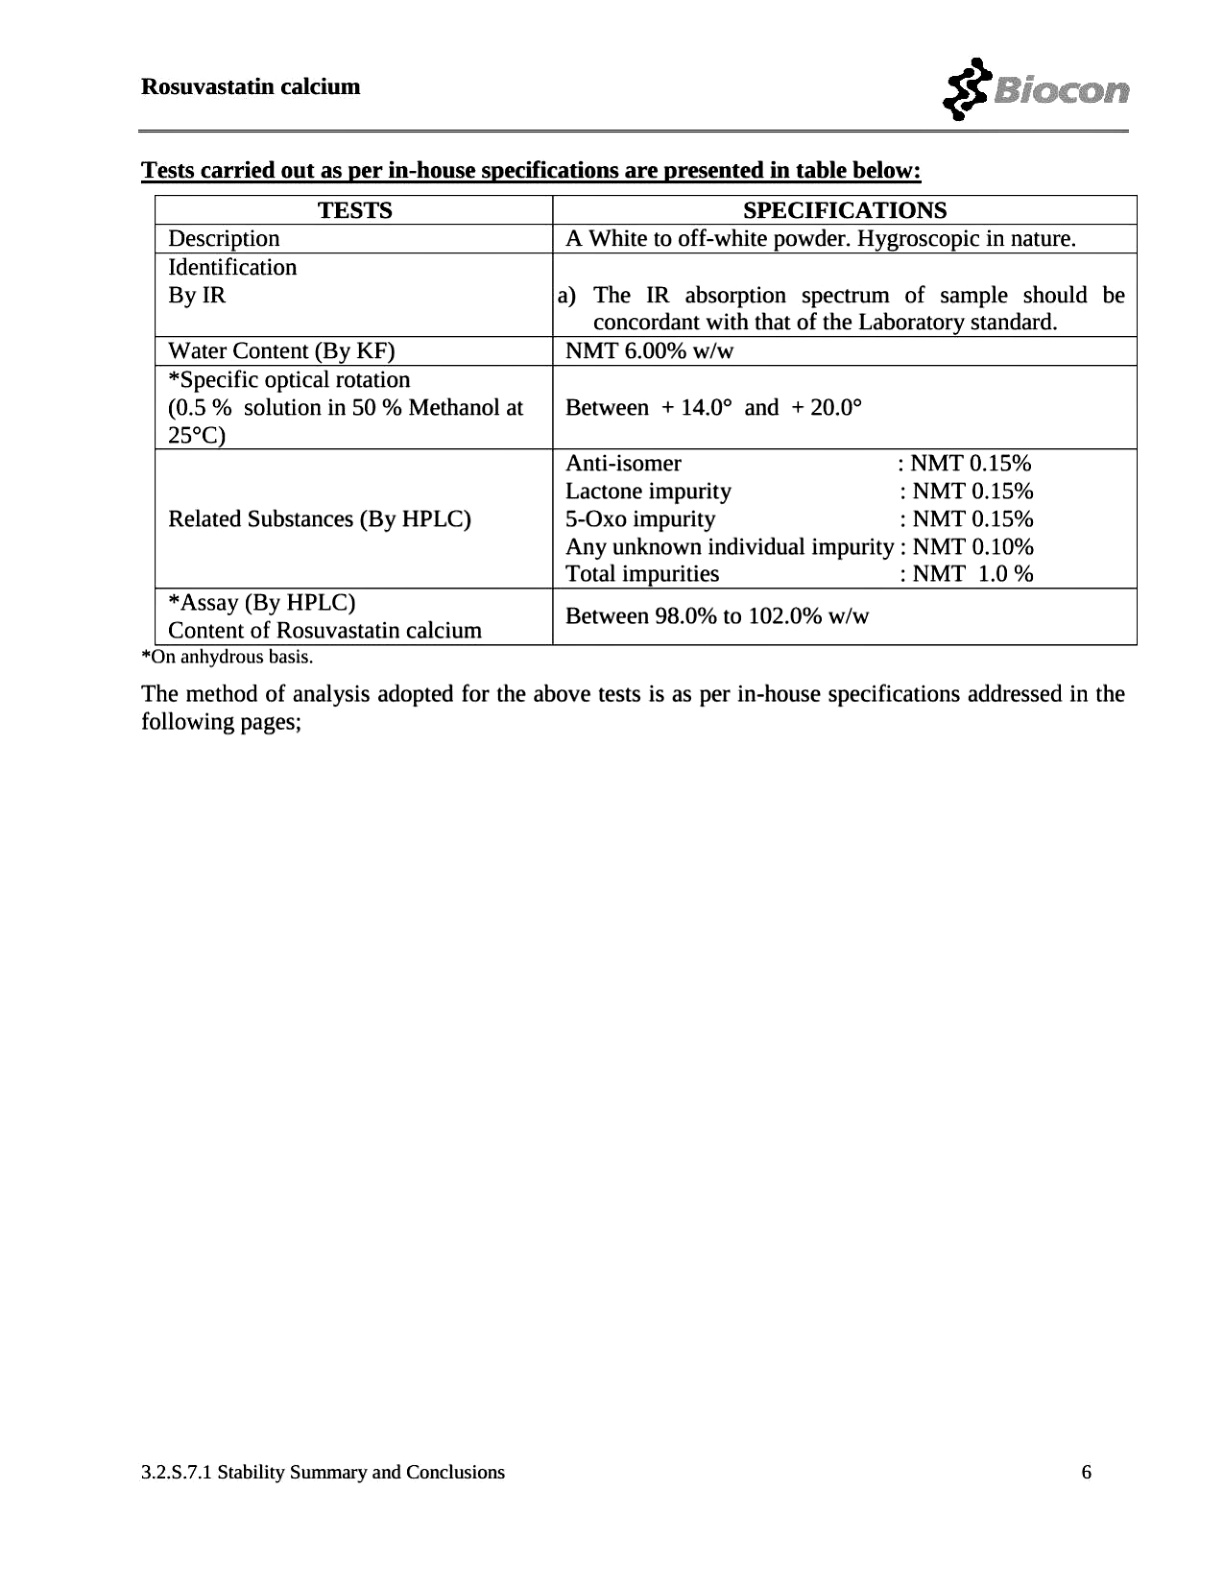full_lined: (153, 194, 1139, 646)
